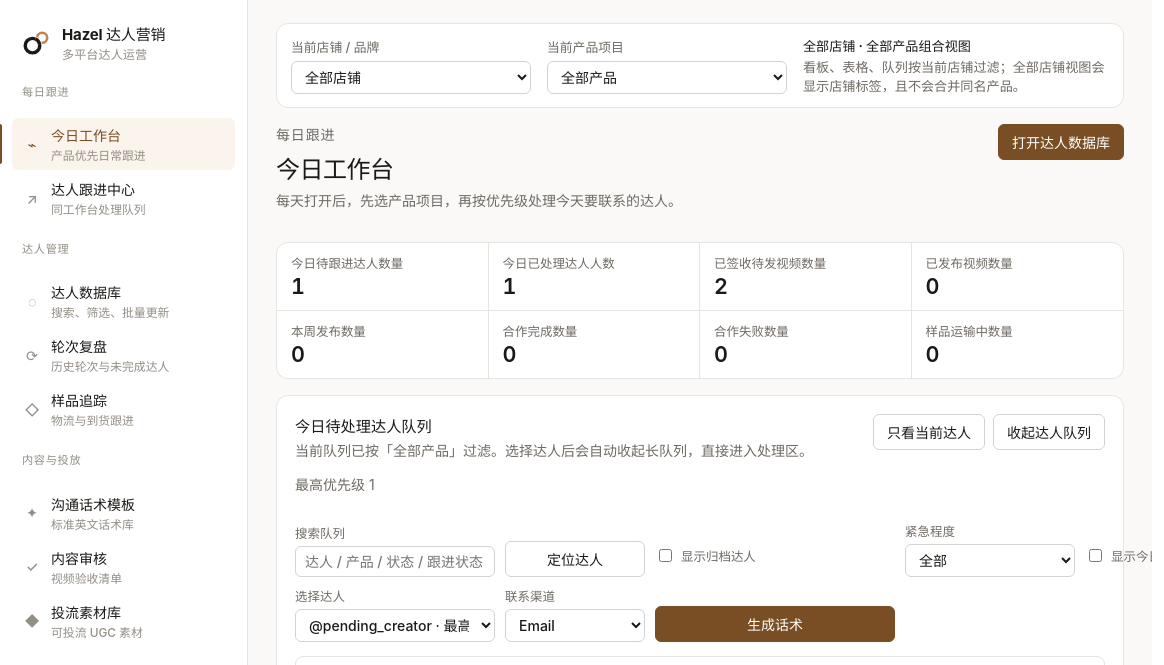
Test: operations workbench navigation and dashboard › keeps overview card clicks on 今日工作台 and reveals processed creators from the processed card
Click the button "今日待跟进达人数量 1".
click(383, 277)  # box [277,243,488,311]
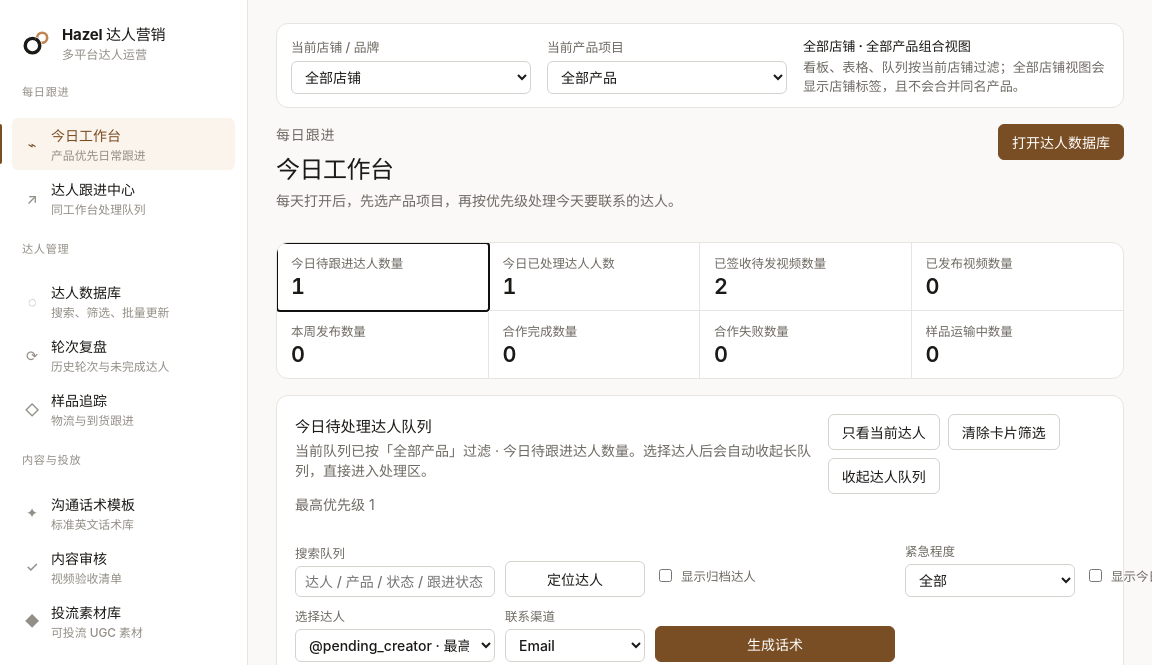
Check: the heading "今日工作台" is shown, box [276,155,394,184]
Check: the heading "今日待处理达人队列" is shown, box [295,417,432,436]
Click the button "今日已处理达人人数 1".
click(594, 277)  # box [488,243,700,311]
(page scrolled)
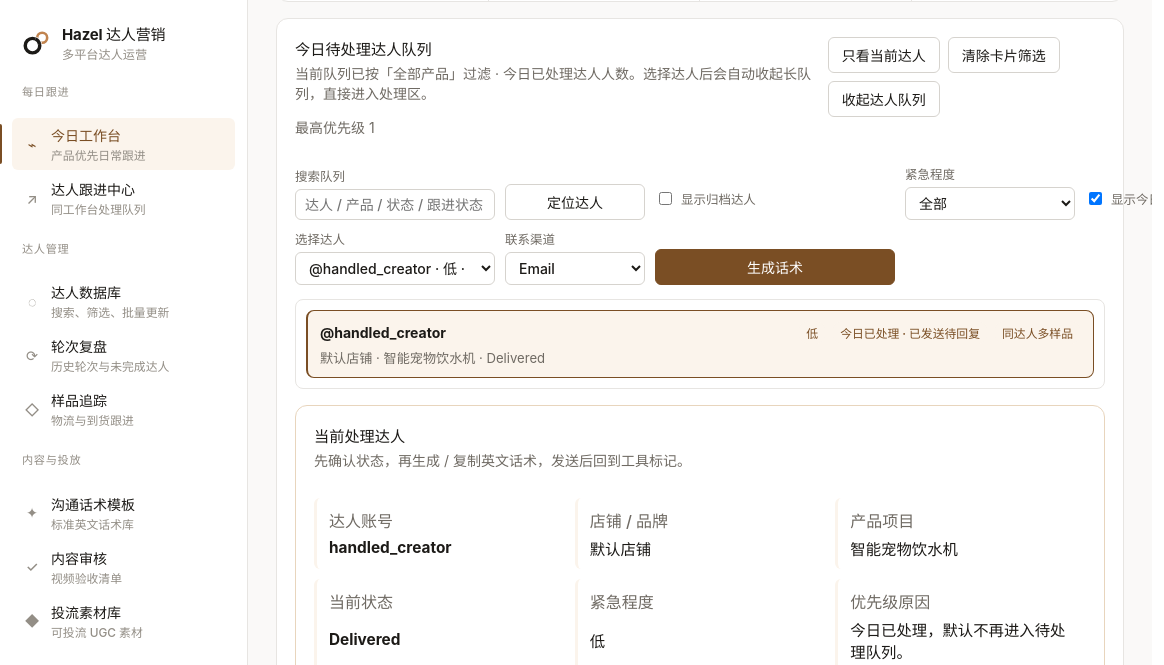
Check: the checkbox labelled "显示今日已处理" is checked, box [1089,192,1102,205]
Check: the element with test id "creator-queue" shows "handled_creator", box [306,310,1094,378]
Check: the element with test id "creator-queue" shows "今日已处理", box [306,310,1094,378]
